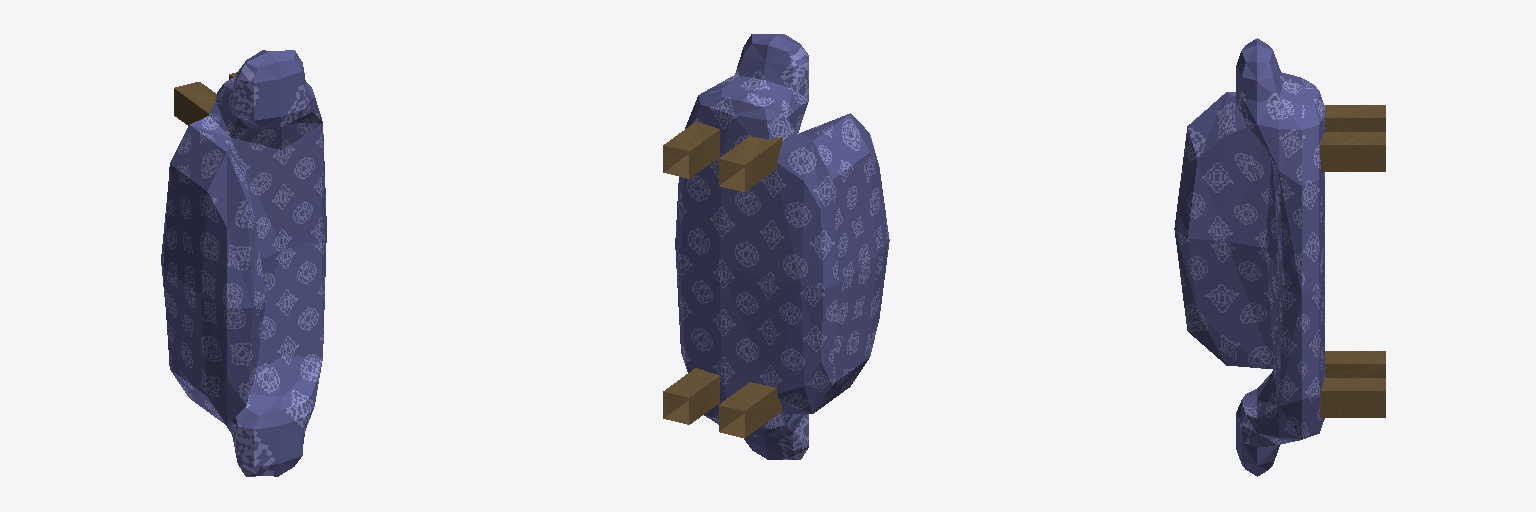
3 renders of one model, left to right at view 1: azimuth 30°, elevation 25°; view 2: azimuth 150°, elevation 25°; view 3: azimuth 270°, elevation 25°, orthographic.
Parts seen in each view (by area): view 1: Cube, Cube.001; view 2: Cube, Cube.001; view 3: Cube, Cube.001.
Boxes of the visible parts, <box> form: Cube: <box>161,50,326,476</box>; Cube.001: <box>174,72,237,125</box>; Cube: <box>675,34,889,459</box>; Cube.001: <box>663,121,782,438</box>; Cube: <box>1174,38,1324,476</box>; Cube.001: <box>1320,105,1385,417</box>.
Size of the model in its own units: 1.25 by 3.11 by 1.4.
1 materials, 1 textured.